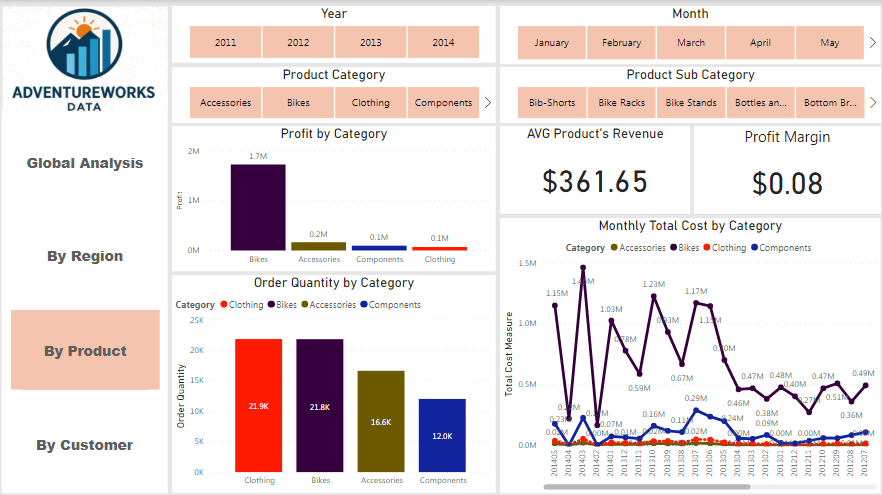

Layout of this report page (visuals, bound fields, positions):
{"tool":"powerbi","page":{"name":"Products","canvas":[1280,720],"ordinal":2},"visuals":[{"type":"group","id":"g1","title":"Side_Menu","box":[1.7,152,245,567],"z":0},{"type":"basicShape","box":[1.7,152,245,567],"z":0,"group":"g1"},{"type":"image","box":[0,5,249,162.7],"z":1000},{"type":"actionButton","box":[34.1,176.7,181.8,115.4],"z":1000,"group":"g1"},{"type":"slicer","title":"Product Sub Category","fields":{"Values":["Dim Product.Sub Category Product"]},"box":[724.3,96.9,550.8,81],"z":2000},{"type":"actionButton","box":[34.1,311.9,181.8,115],"z":2000,"group":"g1"},{"type":"slicer","title":"Product Category","fields":{"Values":["Dim Product.Category"]},"box":[250,97.3,468,80.5],"z":3000},{"type":"actionButton","box":[34.1,448.7,181.8,115],"z":3000,"group":"g1"},{"type":"slicer","title":"Month","fields":{"Values":["Dim Date.Month Name"]},"box":[724.7,8.4,550.2,83.9],"z":4000},{"type":"actionButton","box":[34.1,583.9,181.8,115.4],"z":4000,"group":"g1"},{"type":"slicer","title":"Year","fields":{"Values":["Dim Date.Year"]},"box":[250,8.4,468,82.2],"z":5000},{"type":"lineChart","title":"Monthly Total Cost by Category","fields":{"Series":["Dim Product.Category"],"Category":["Dim Date.Year Month"],"Y":["Fact Sales (Measures).Total Cost Measure"]},"box":[724.7,315.4,550.2,397.6],"z":6000},{"type":"card","title":"Profit Margin","fields":{"Values":["Fact Sales (Measures).Profit Margin %"]},"box":[1004.9,182.9,270.1,127.5],"z":7000},{"type":"actionButton","box":[17.1,448.7,214.5,115.4],"z":7000,"group":"g1"},{"type":"card","title":"AVG Product''s Revenue","fields":{"Values":["Fact Sales (Measures).Revenue per Product"]},"box":[724.7,182.9,275.1,127.5],"z":8000},{"type":"columnChart","title":"Profit by Category","fields":{"Category":["Dim Product.Category"],"Y":["Fact Sales (Measures).Profit"]},"box":[250,182.9,468,209.7],"z":9000},{"type":"columnChart","title":"Order Quantity by Category","fields":{"Y":["Fact Sales (Measures).Order Quantity"],"Category":["Dim Product.Category"],"Series":["Dim Product.Category"]},"box":[250,397.6,468,315.4],"z":10000}]}

Visuals, with their boxes in screenshot pixels (x1, y1, x2, y2), scaled from the page's 1280x720 canvas onto the 882x495 screenshot:
"Side_Menu" group: [x1=1, y1=104, x2=170, y2=494]
basicShape: [x1=1, y1=104, x2=170, y2=494]
image: [x1=0, y1=3, x2=172, y2=115]
actionButton: [x1=23, y1=121, x2=149, y2=201]
"Product Sub Category" slicer: [x1=499, y1=67, x2=879, y2=122]
actionButton: [x1=23, y1=214, x2=149, y2=293]
"Product Category" slicer: [x1=172, y1=67, x2=495, y2=122]
actionButton: [x1=23, y1=308, x2=149, y2=388]
"Month" slicer: [x1=499, y1=6, x2=878, y2=63]
actionButton: [x1=23, y1=401, x2=149, y2=481]
"Year" slicer: [x1=172, y1=6, x2=495, y2=62]
"Monthly Total Cost by Category" lineChart: [x1=499, y1=217, x2=878, y2=490]
"Profit Margin" card: [x1=692, y1=126, x2=879, y2=213]
actionButton: [x1=12, y1=308, x2=160, y2=388]
"AVG Product''s Revenue" card: [x1=499, y1=126, x2=689, y2=213]
"Profit by Category" columnChart: [x1=172, y1=126, x2=495, y2=270]
"Order Quantity by Category" columnChart: [x1=172, y1=273, x2=495, y2=490]
